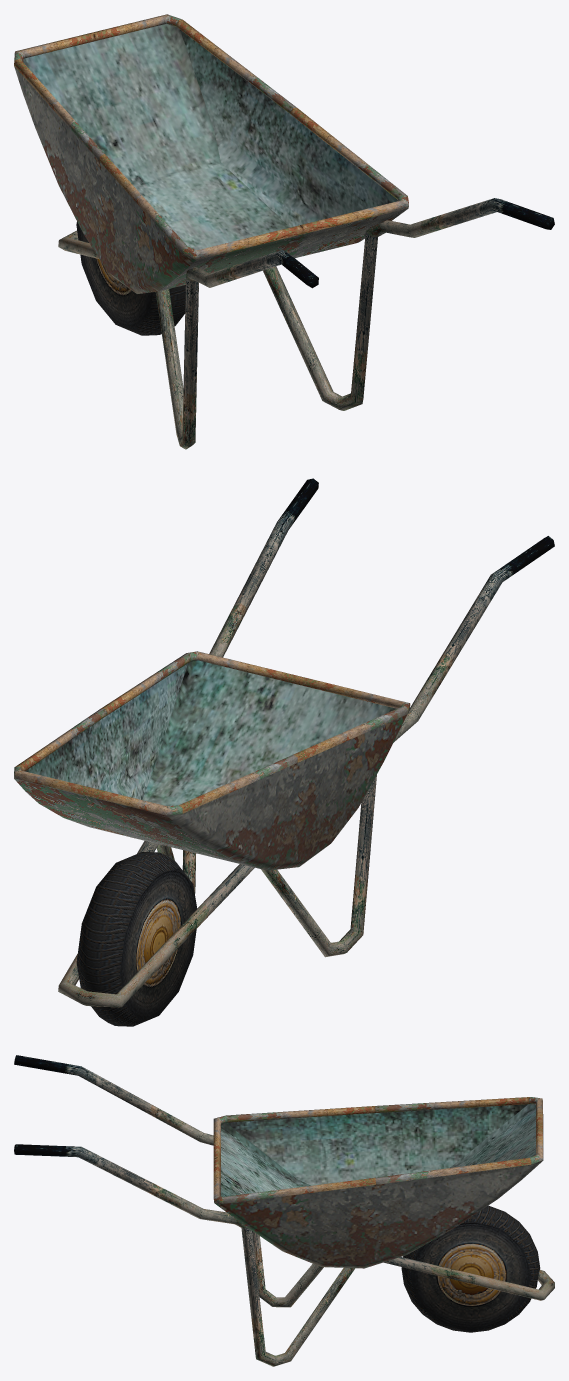
File: wheel_barrel.FBX
The picture shows the model from 3 angles, top to bottom: view 1: azimuth 30°, elevation 25°; view 2: azimuth 150°, elevation 25°; view 3: azimuth 270°, elevation 25°; orthographic projection. The views are drawn at different scales.
Parts seen in each view (by area): view 1: Object01; view 2: Object01; view 3: Object01.
Part boxes in pixels (bbox=[...]): Object01: bbox=[14, 14, 554, 449]; Object01: bbox=[14, 478, 554, 1026]; Object01: bbox=[14, 1055, 554, 1366].
Bounding box in the file's own units: 76.19 × 186 × 89.78.
1 material, 1 textured.
